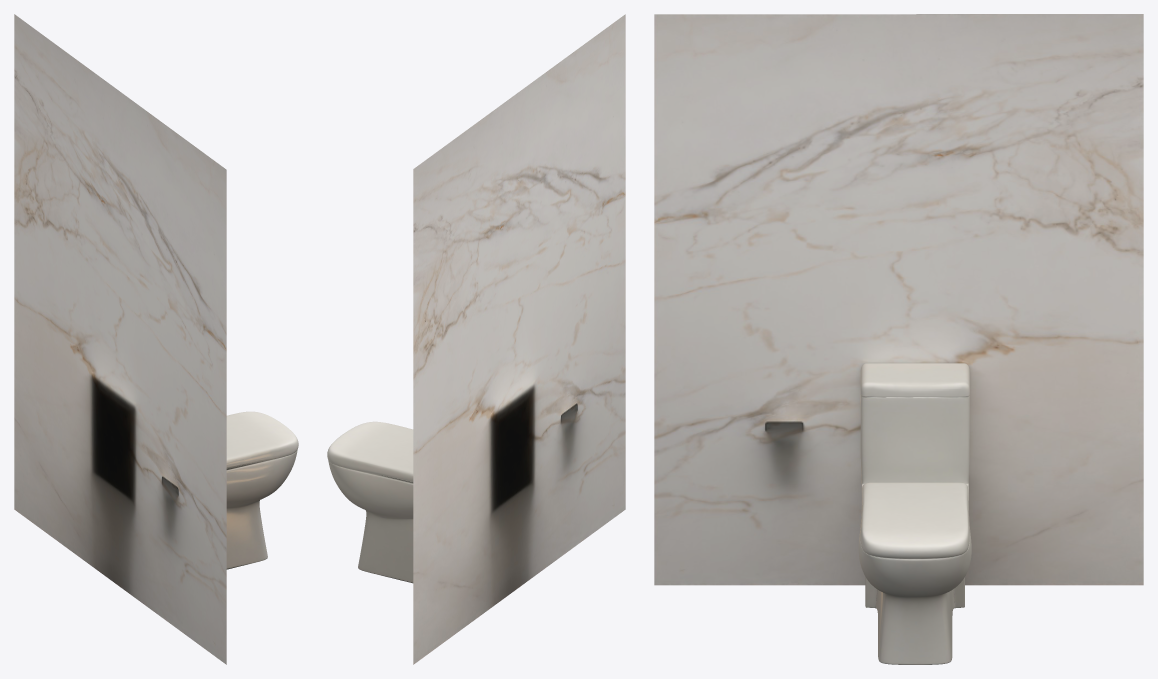
File: aspiro.glb
The picture shows the model from 3 angles, left to right: view 1: azimuth 30°, elevation 25°; view 2: azimuth 150°, elevation 25°; view 3: azimuth 270°, elevation 25°; orthographic projection. The views are drawn at different scales.
Parts seen in each view (by area): view 1: aspiro; view 2: aspiro; view 3: aspiro.
Part boxes in pixels (x1,y1,x2,y2): aspiro: (14,14,298,664); aspiro: (327,14,625,664); aspiro: (654,14,1143,664).
Bounding box in the file's own units: 0.9099 × 2.5 × 1.94.
Materials: 1 (1 with a texture image).
